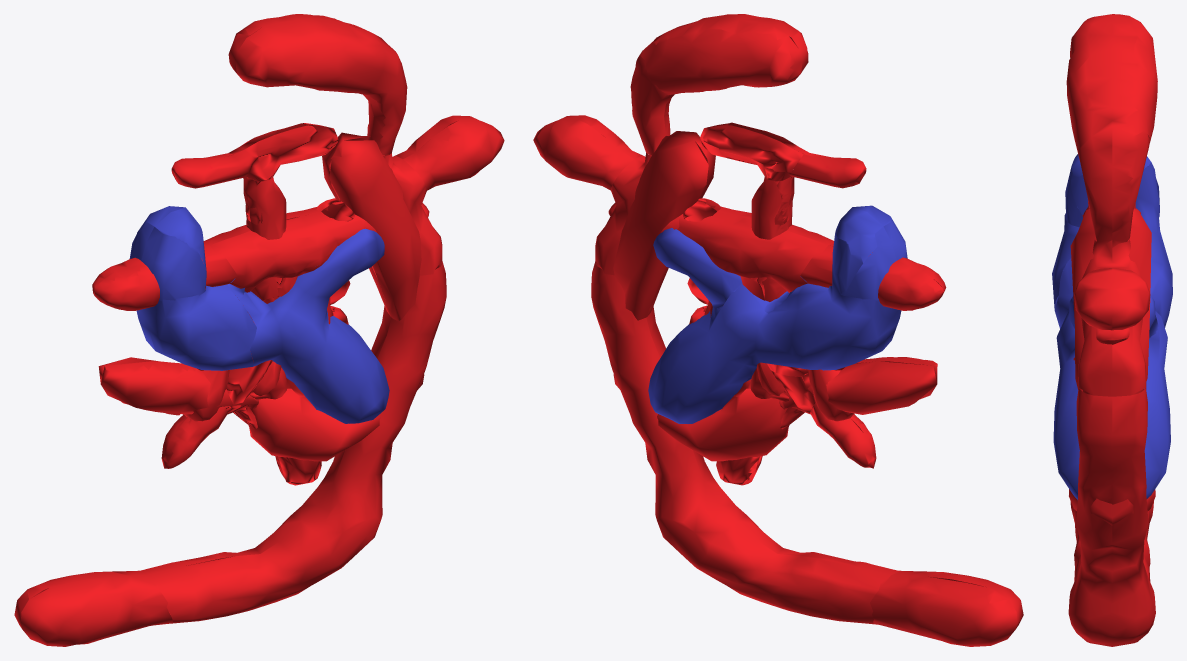
File: BlobsReduced.fbx
3 views of the same model, side by side, from view 1: azimuth 30°, elevation 25°; view 2: azimuth 150°, elevation 25°; view 3: azimuth 270°, elevation 25° (orthographic). The views are drawn at different scales.
Visible parts, largest first — view 1: mesh_id73, mesh_id20, mesh_id40, mesh_id55, mesh_id26, mesh_id34; view 2: mesh_id73, mesh_id20, mesh_id40, mesh_id55, mesh_id26, mesh_id34; view 3: mesh_id73, mesh_id20, mesh_id40, mesh_id55.
Boxes of the visible parts, x1=… form: mesh_id73: x1=14, y1=14, x2=504, y2=646; mesh_id20: x1=129, y1=206, x2=389, y2=423; mesh_id40: x1=98, y1=132, x2=424, y2=461; mesh_id55: x1=92, y1=202, x2=429, y2=421; mesh_id26: x1=171, y1=123, x2=350, y2=485; mesh_id34: x1=161, y1=198, x2=354, y2=468; mesh_id73: x1=533, y1=14, x2=1023, y2=646; mesh_id20: x1=648, y1=205, x2=907, y2=423; mesh_id40: x1=613, y1=131, x2=937, y2=461; mesh_id55: x1=608, y1=202, x2=946, y2=421; mesh_id26: x1=687, y1=122, x2=866, y2=485; mesh_id34: x1=683, y1=194, x2=876, y2=468; mesh_id73: x1=1066, y1=14, x2=1157, y2=646; mesh_id20: x1=1052, y1=154, x2=1172, y2=499; mesh_id40: x1=1069, y1=208, x2=1155, y2=525; mesh_id55: x1=1082, y1=207, x2=1140, y2=344.
Bounding box in the file's own units: 724 × 827 × 147.
Materials: 6 (6 with a texture image).
